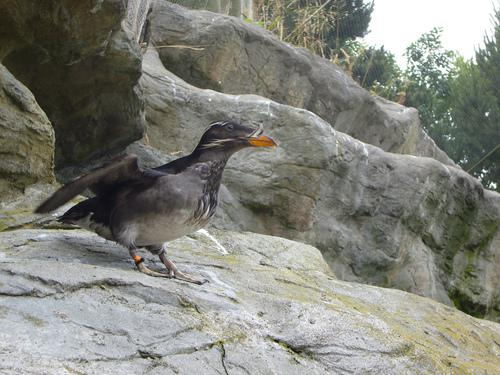008.Rhinoceros_Auklet: (31, 119, 276, 287)
